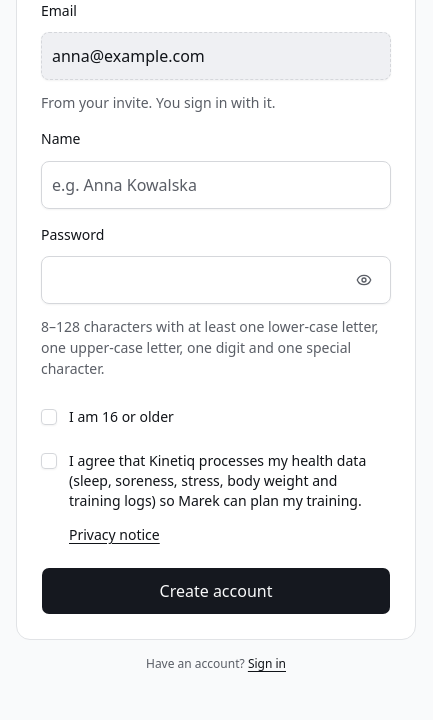
Test: JoinPage › shows a message next to each field and sends nothing when the form is empty
(page scrolled)
Expected: the field labelled "Name" is shown, [41, 160, 391, 208]
Click the button "Create account" at (216, 591), box [41, 567, 391, 615]
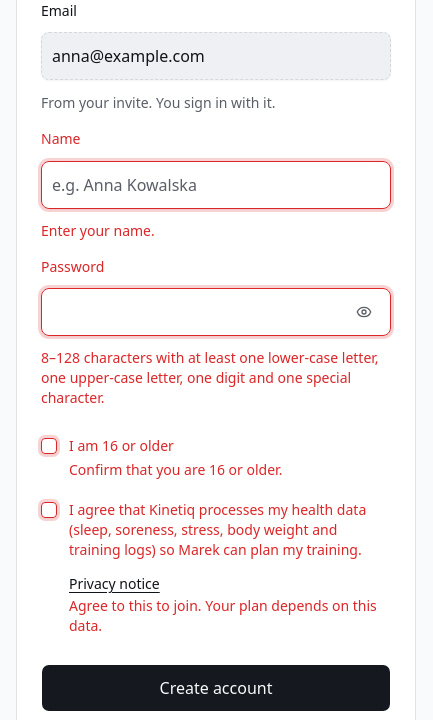
Expected: the text "Enter your name." is shown, [41, 220, 155, 240]
Expected: the text "Confirm that you are 16 or older." is shown, [69, 460, 282, 479]
Expected: the text "Agree to this to join. Your plan depends on this data." is shown, [69, 596, 391, 636]
